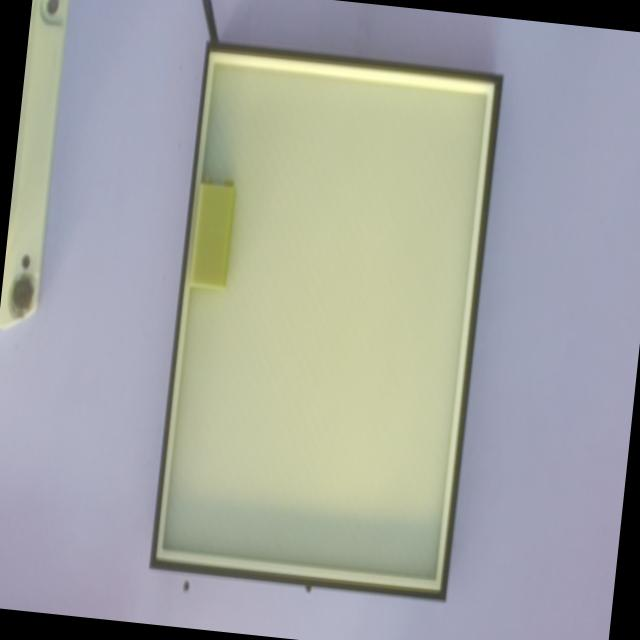bateria: (188, 172, 236, 291)
mesa: (149, 40, 503, 601)
